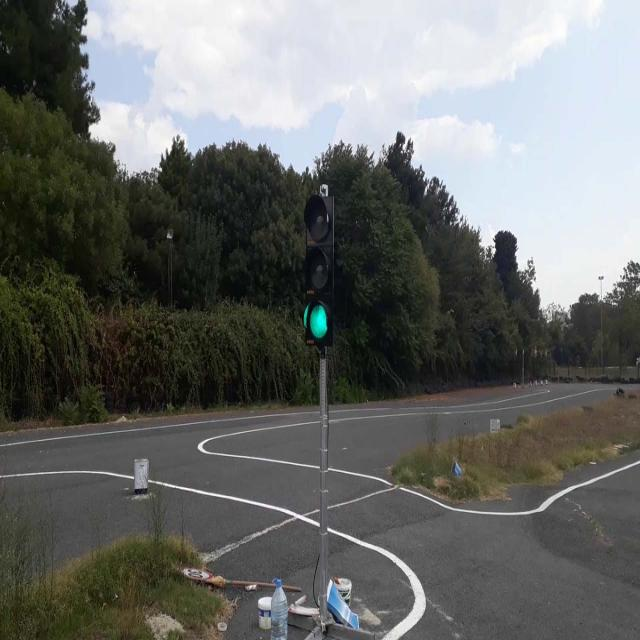yesil: (304, 196, 332, 347)
